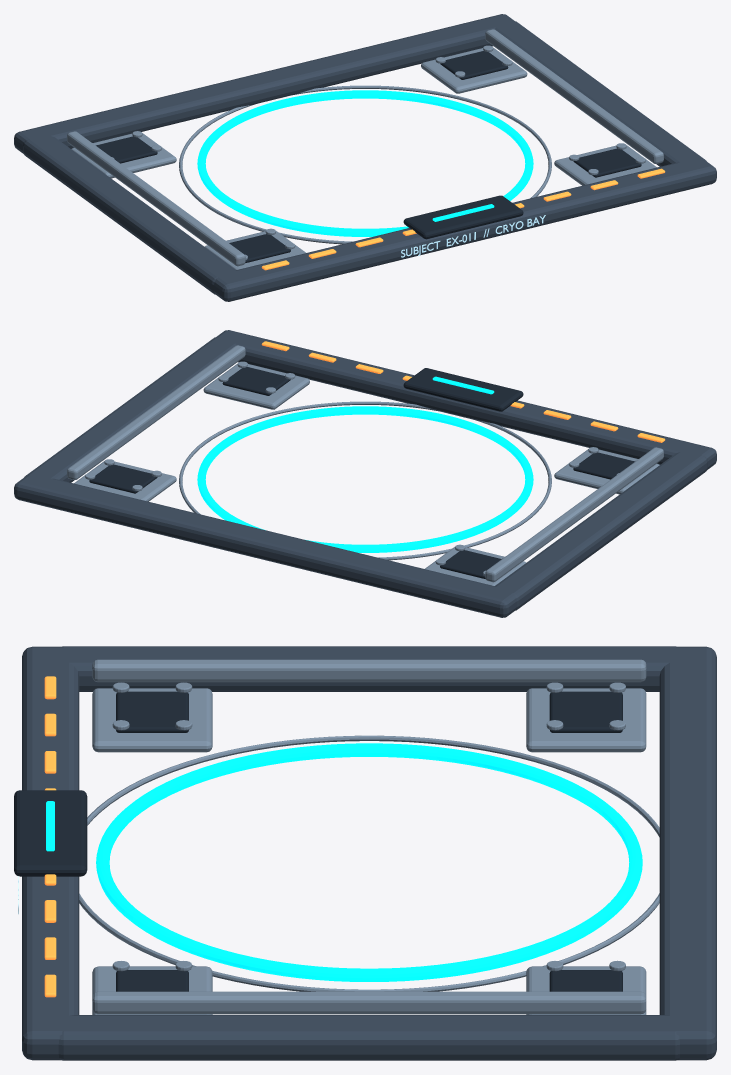
Rendered from sector11_cryo_dais_v1.glb.
3 views of the same model, one above another, from view 1: azimuth 30°, elevation 25°; view 2: azimuth 150°, elevation 25°; view 3: azimuth 270°, elevation 25° (orthographic). The views are drawn at different scales.
Parts seen in each view (by area): view 1: Sector11CryoDockingDais; view 2: Sector11CryoDockingDais; view 3: Sector11CryoDockingDais.
Boxes of the visible parts, <box> form: Sector11CryoDockingDais: <box>14,14,716,301</box>; Sector11CryoDockingDais: <box>14,330,716,617</box>; Sector11CryoDockingDais: <box>14,646,716,1060</box>.
Bounding box in the file's own units: 3.56 × 0.189 × 2.69.
